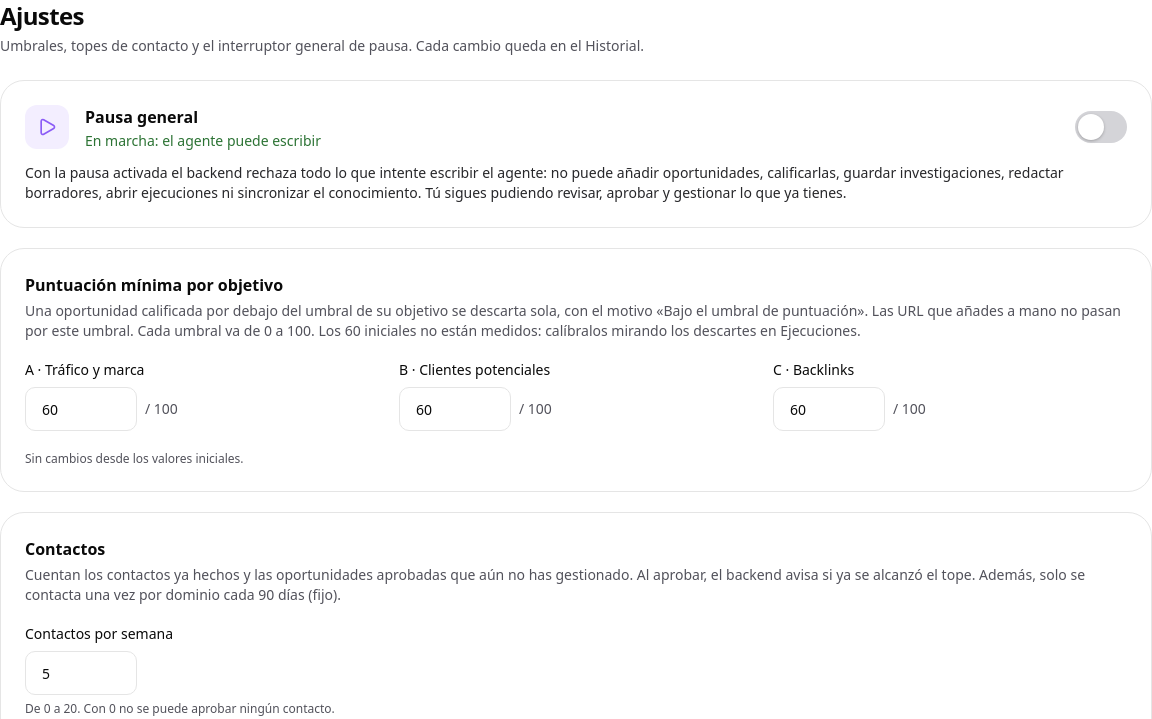
Scenario: Ajustes · pausa › al confirmar guarda solo la pausa y el interruptor refleja lo que guardó el backend
The width and height of the screenshot is (1152, 719).
Click the switch at (1101, 127), box [1075, 105, 1127, 149]
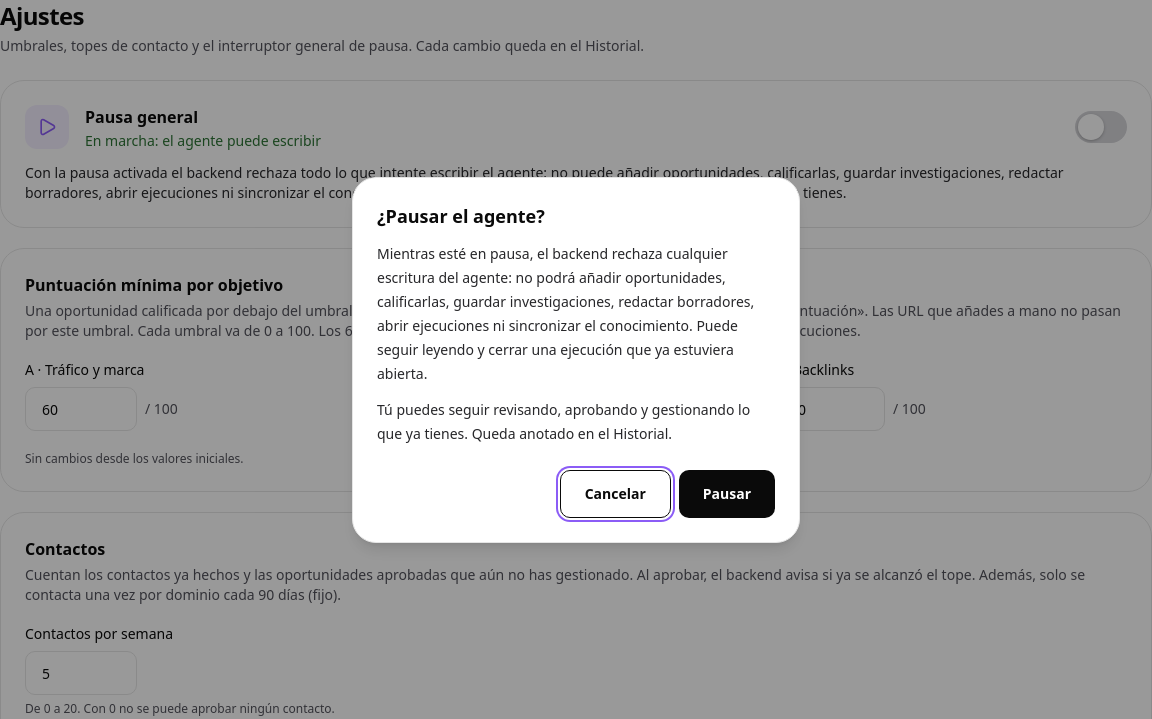
Click the button "Pausar" at (727, 494), box [679, 470, 775, 518]
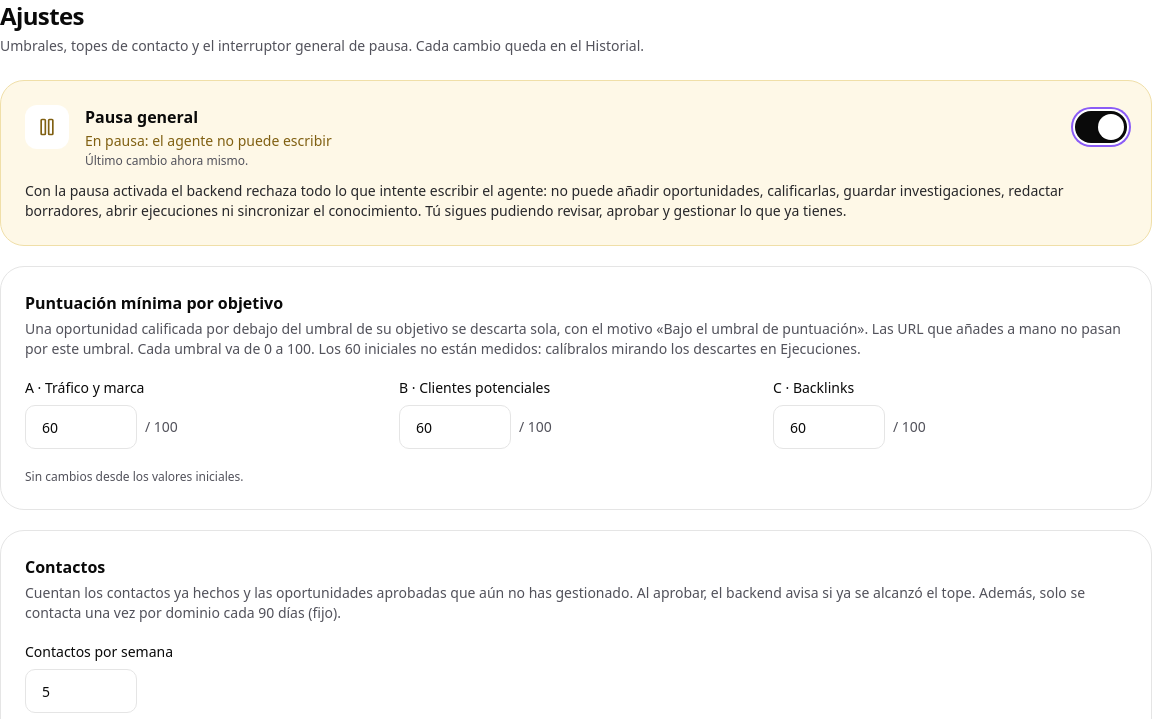
Check: the dialog is gone
Check: the text "En pausa: el agente no puede escribir" is shown, box [85, 131, 332, 150]
